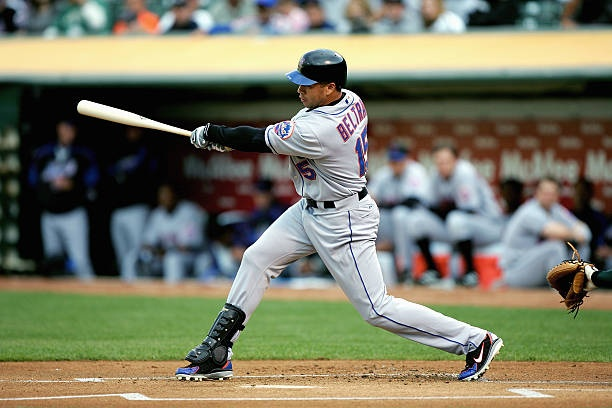bita: (78, 99, 223, 146)
